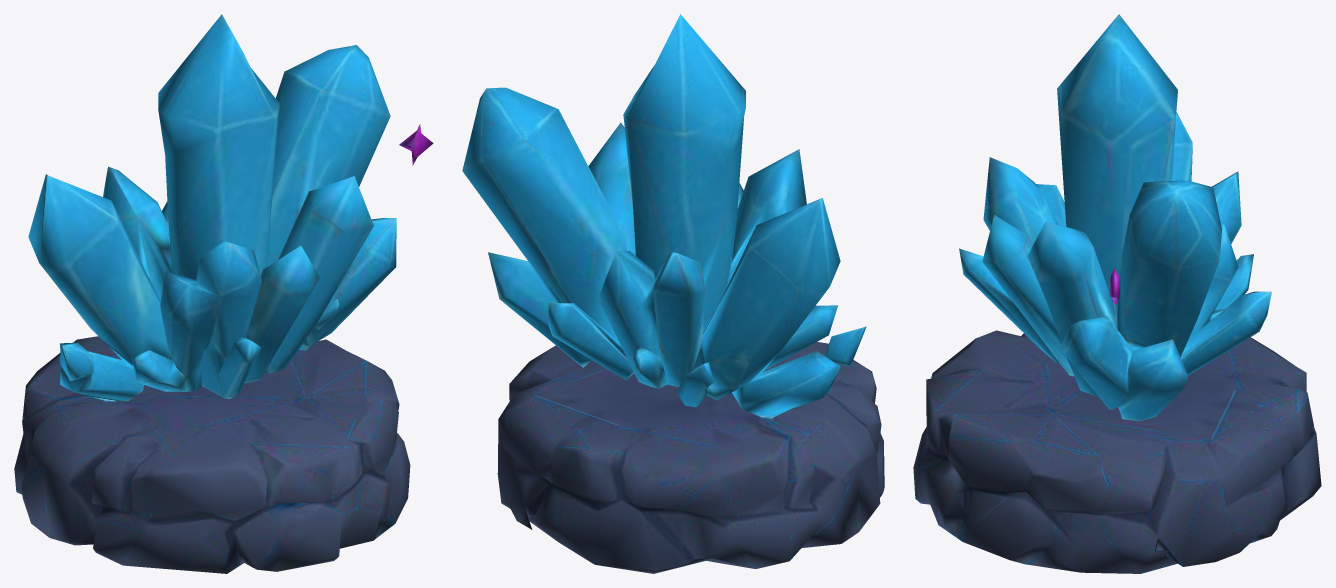
The model's file is crystal.glb.
3 views of the same model, side by side, from view 1: azimuth 30°, elevation 25°; view 2: azimuth 150°, elevation 25°; view 3: azimuth 270°, elevation 25° (orthographic).
Size of the model in its own units: 1.6 by 1.89 by 1.45.
Materials: 1 (1 with a texture image).
